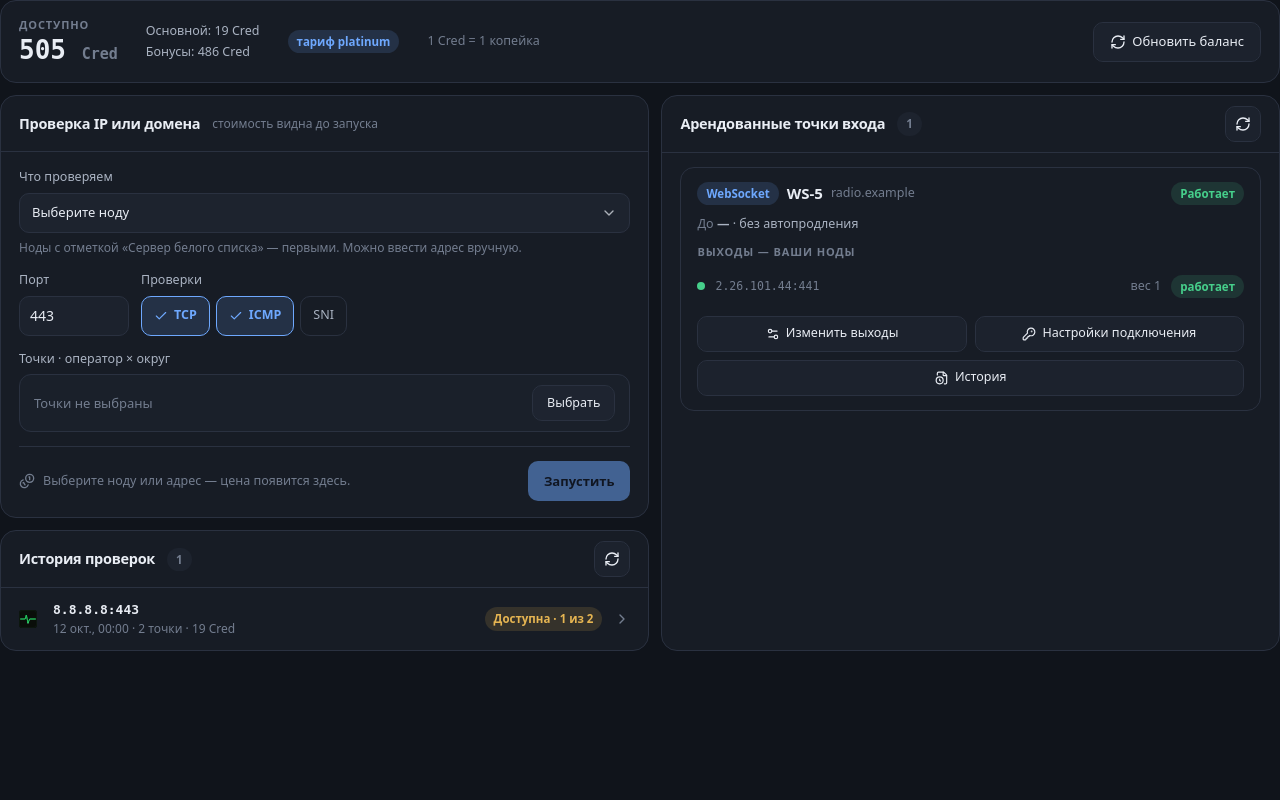
Test: История точки › события новыми сверху: заголовок, подробность и кто сделал; честная подпись про то, чего нет
This screenshot has width=1280, height=800.
What coordinates should you click on to do the following:
click the button "История"
I would click on:
 (971, 378)
Its box is [698,360,1244,396].
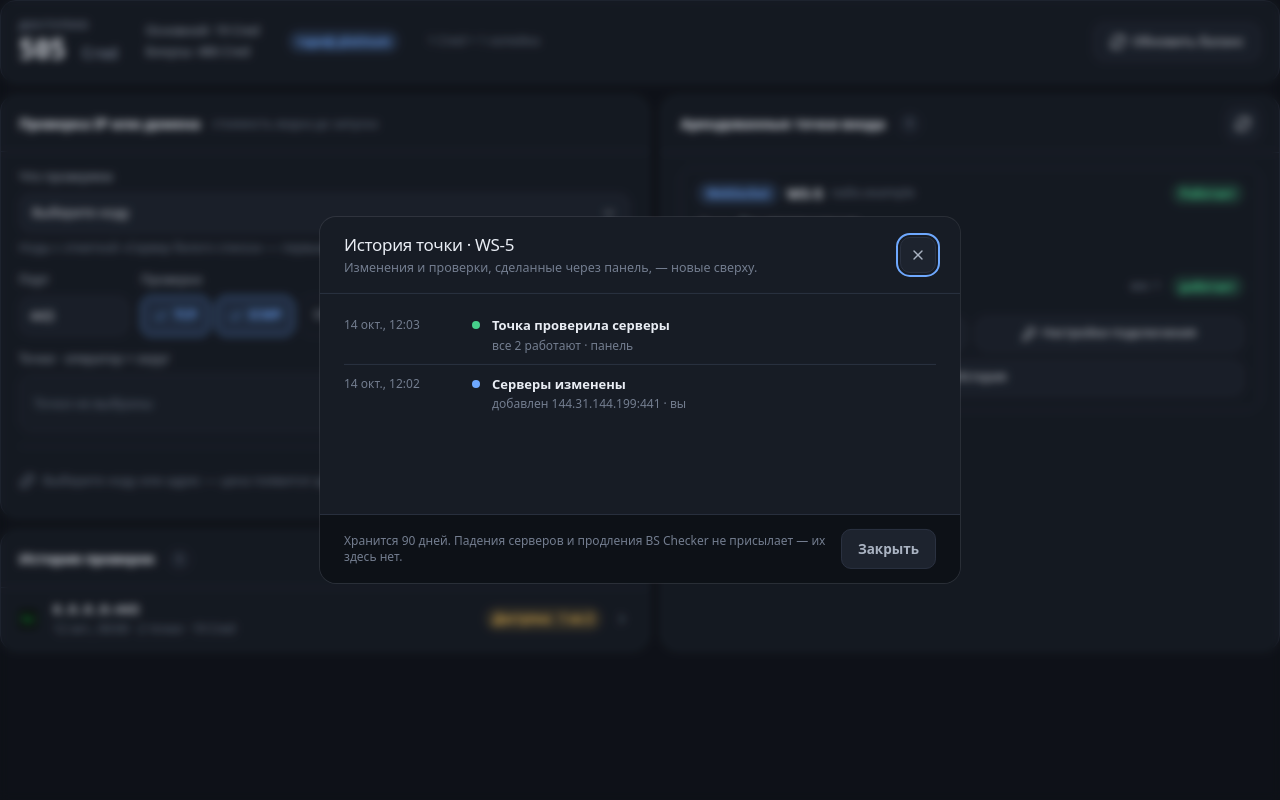
Check: the list item that starts with "14 окт., 12:03" shows "Точка проверила серверы", box [492,316,670,334]
Check: the list item that starts with "14 окт., 12:03" shows "все 2 работают · панель", box [492,337,633,354]
Check: the list item that starts with "14 окт., 12:02" shows "добавлен 144.31.144.199:441 · вы", box [492,395,686,412]
